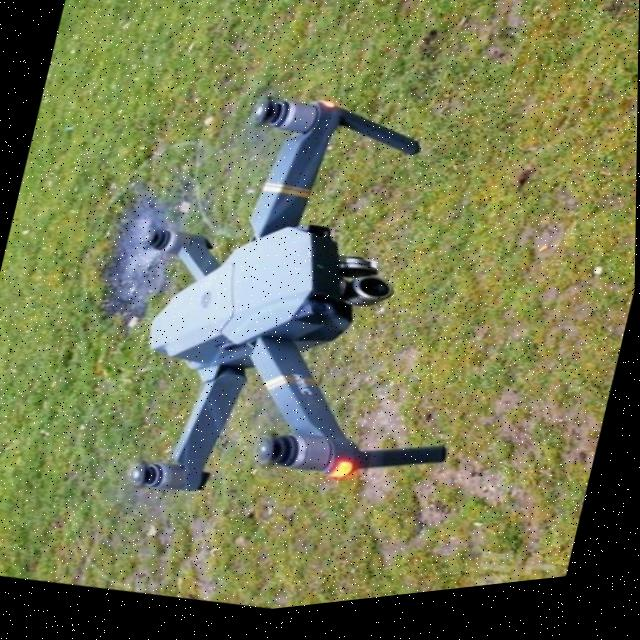drones: (0, 0, 588, 640)
